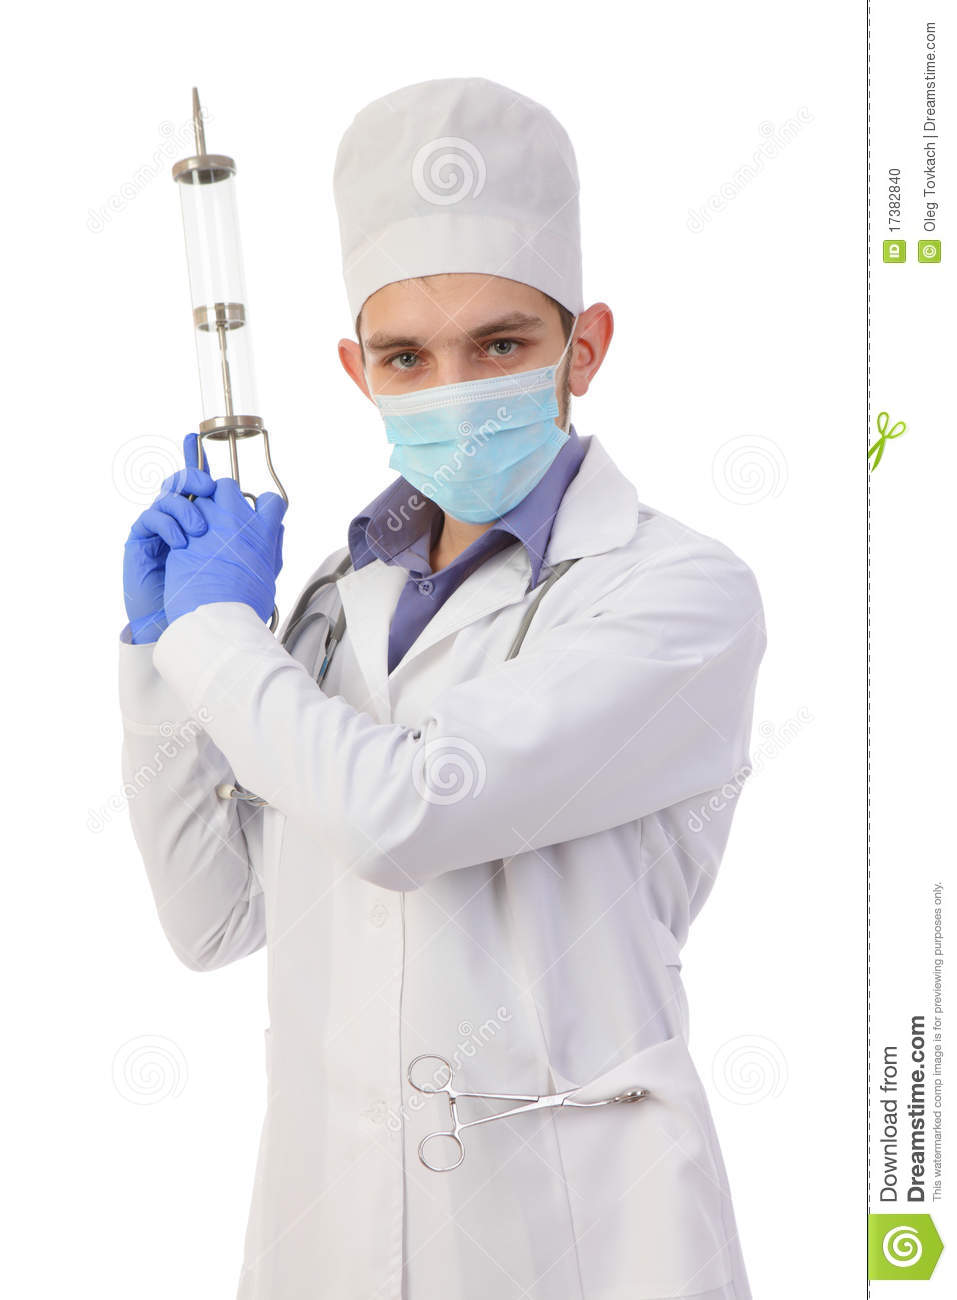mask: (368, 381, 584, 521)
